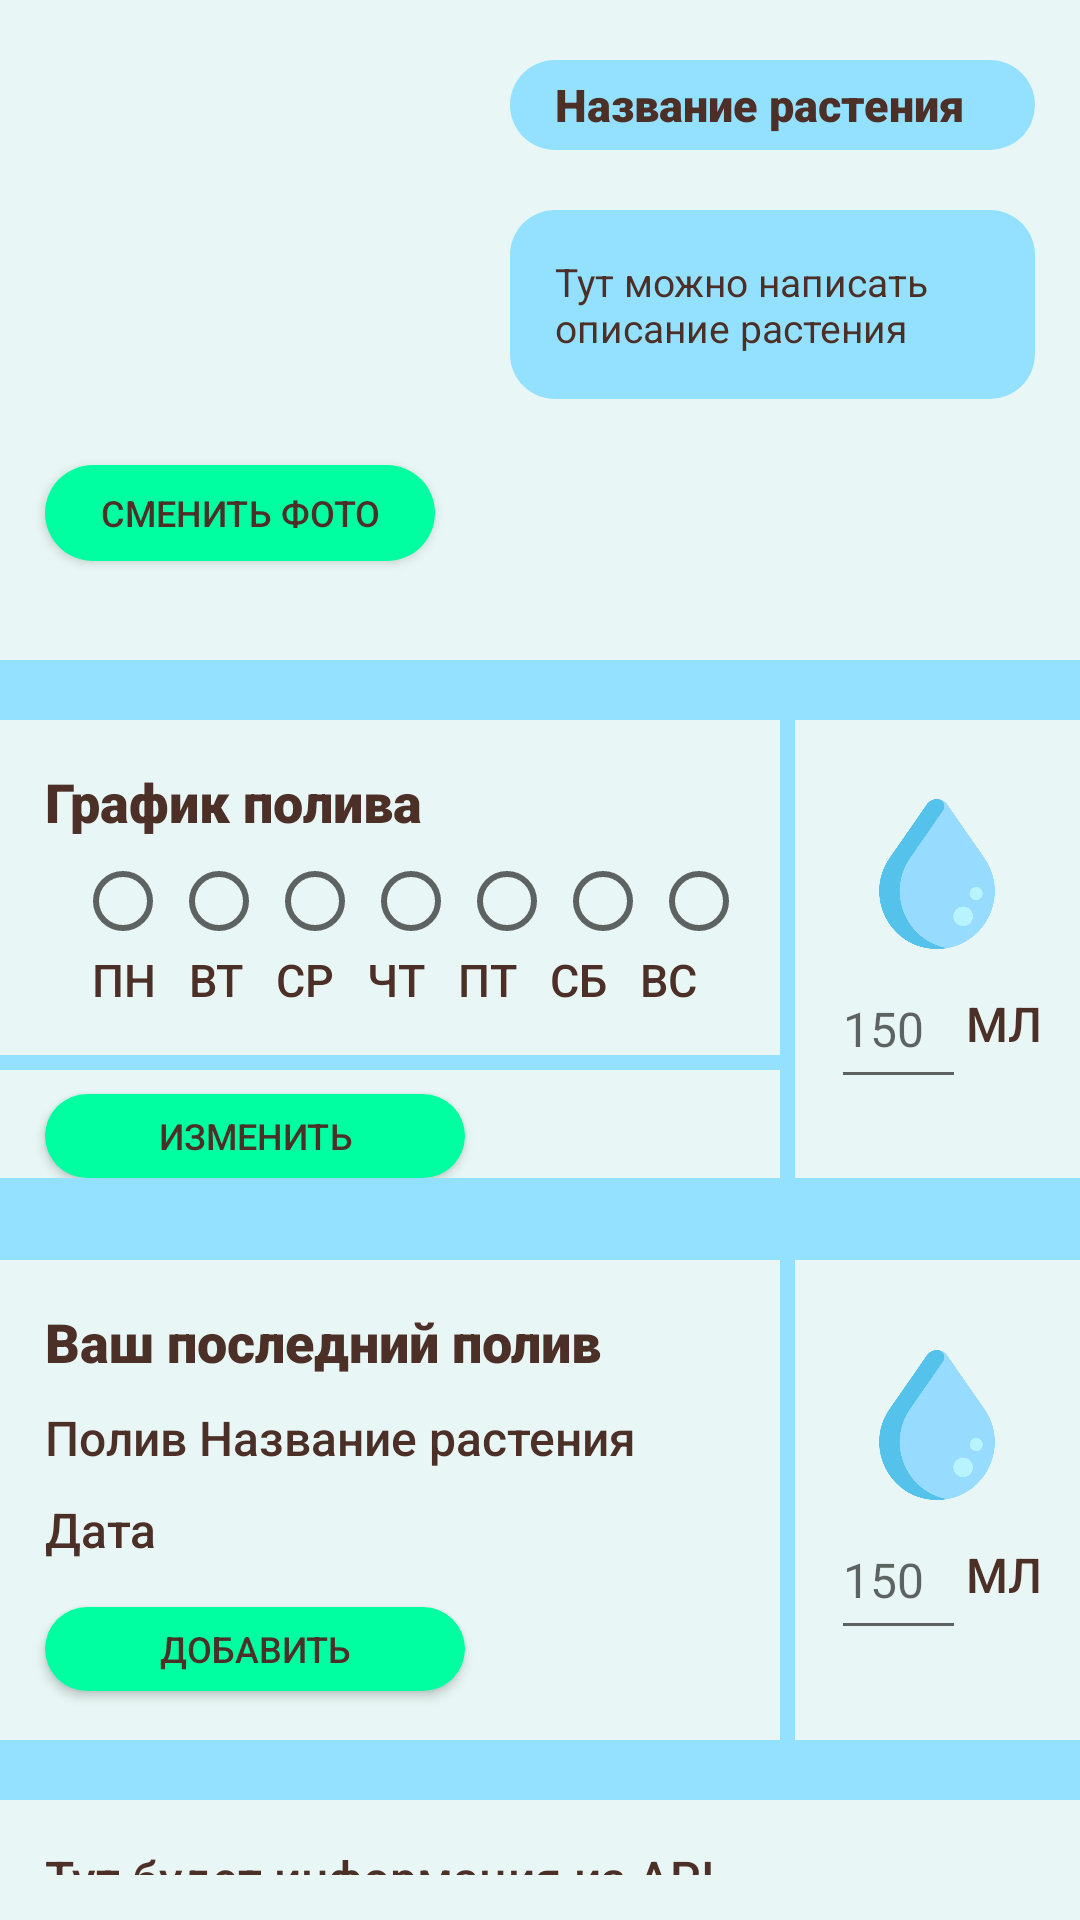

Point at icon controls on the screen. Image size 1080*1920, points as point (x, y).
drop: point (937, 874), point (937, 1425)
